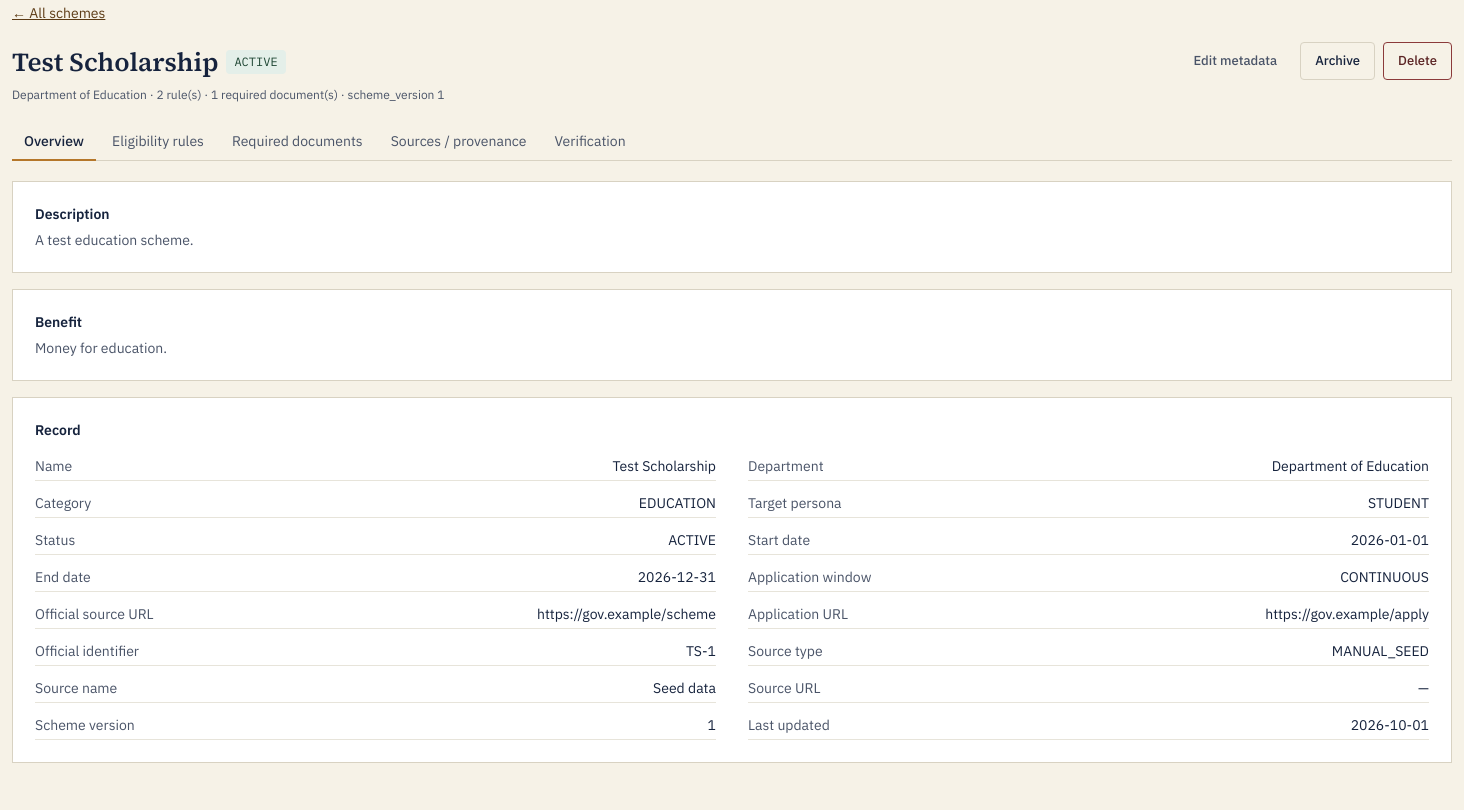
Test: rules tab › shows an active scheme with no rule groups as needing rules
Check: the heading "Test Scholarship" is shown, box [12,42,218,83]
Click the button "Eligibility rules" at (158, 142), box [100,123,216,161]
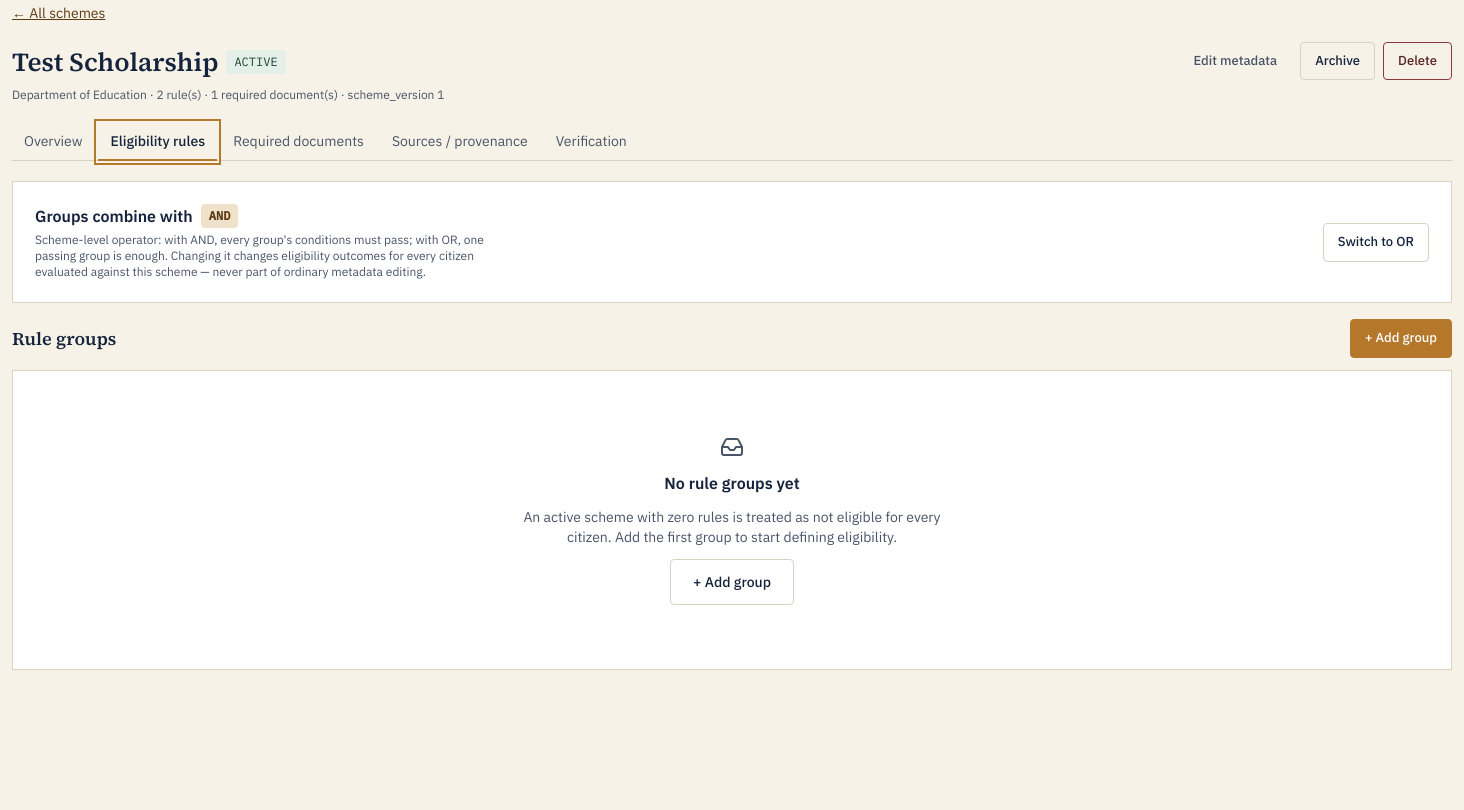
Check: the heading "No rule groups yet" is shown, box [664,471,800,495]
